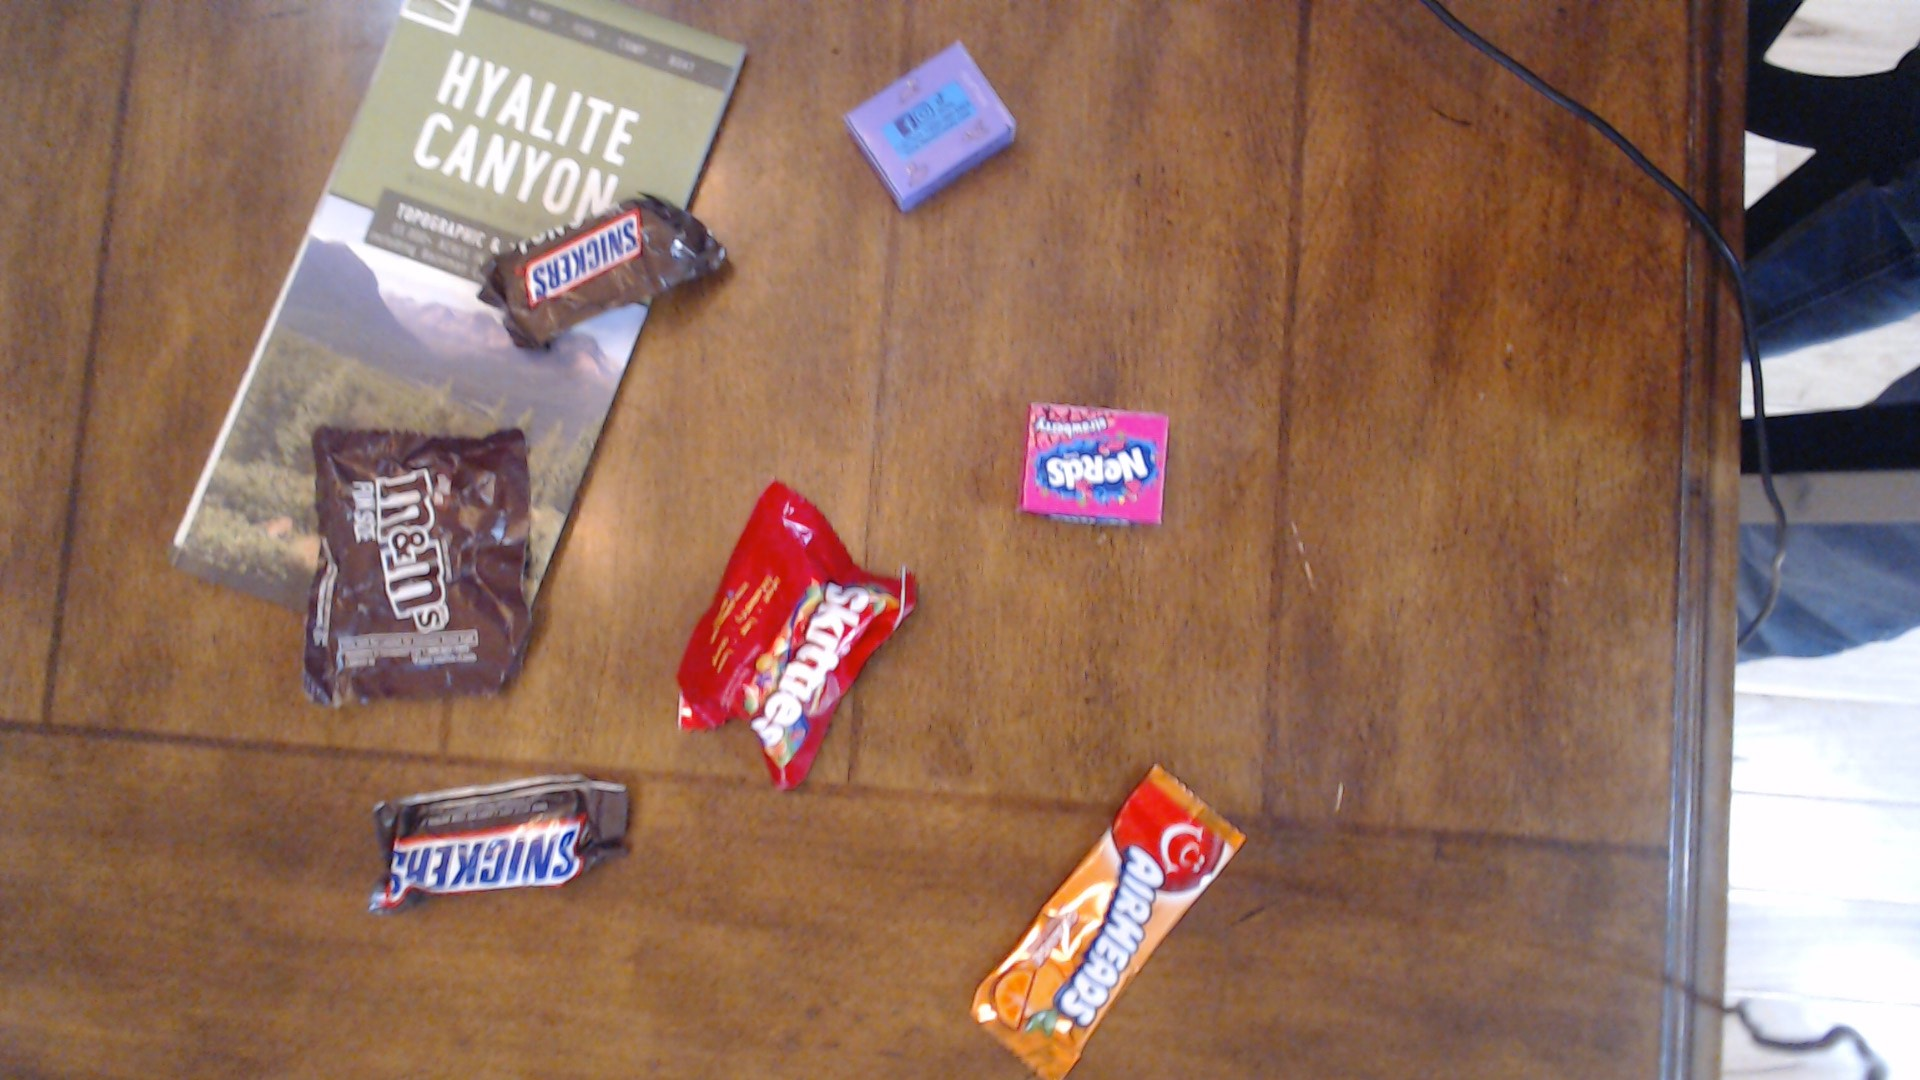MMs_peanut: (276, 409, 539, 723)
airheads: (976, 728, 1249, 1080)
nerds: (444, 206, 778, 353), (799, 51, 1058, 220), (1006, 386, 1200, 566)
skittles: (640, 477, 940, 808)
snickers: (336, 769, 634, 894)
